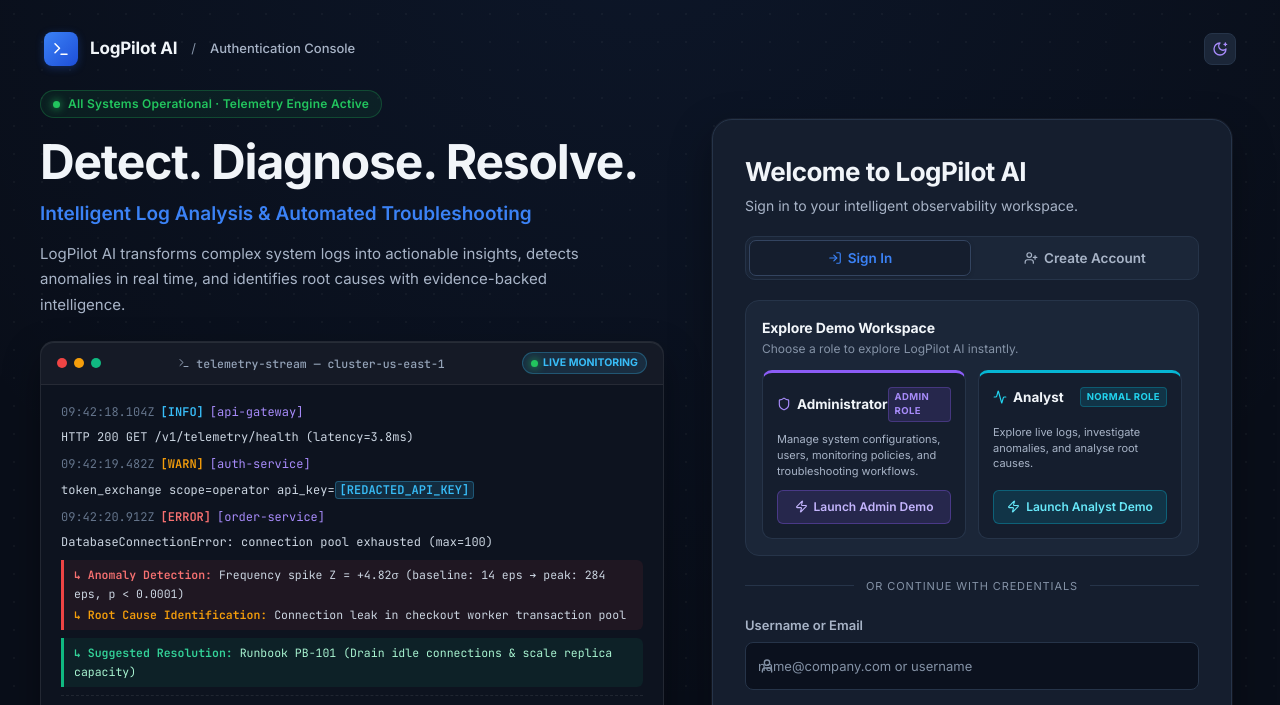
Test: JWT Authentication and Multi-Role Login › switches to Create Account tab and submits registration with selected role
Later steps or results of the test are not shown.
Click the button "Create Account" at point(1085, 258), box x1=975 y1=240 x2=1195 y2=276
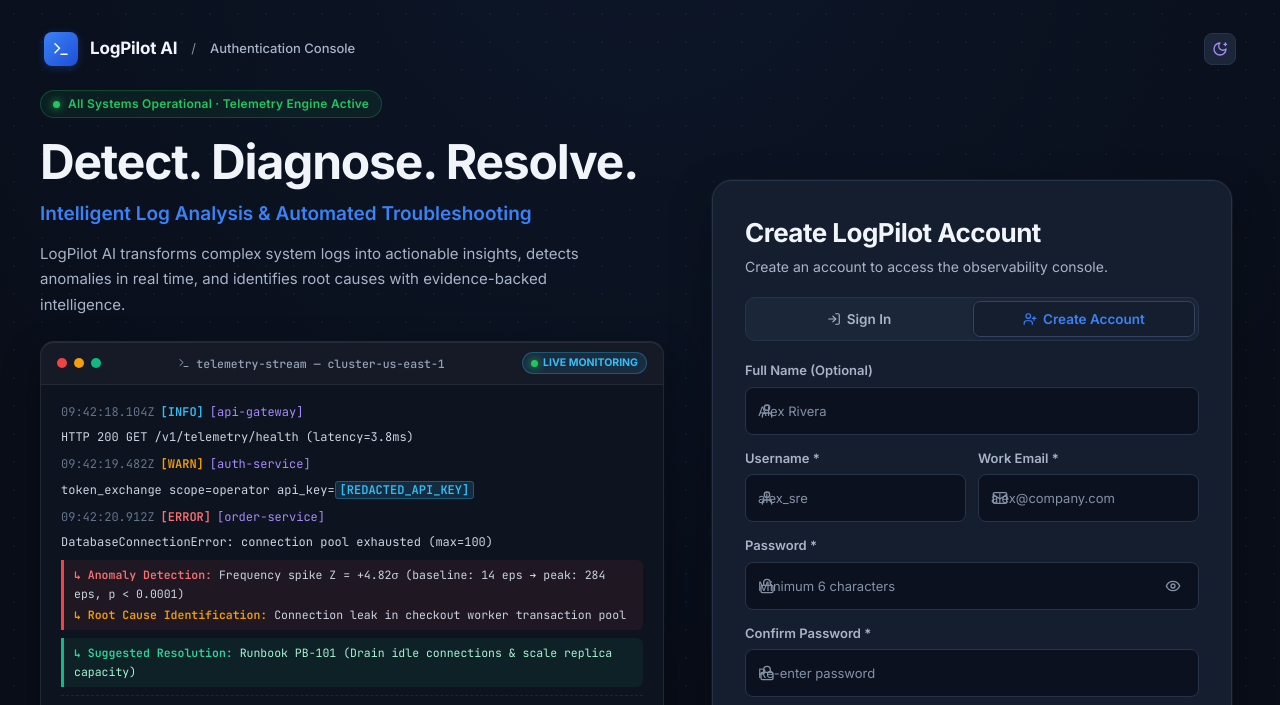
Expected: the heading "Create LogPilot Account" is shown, x1=745 y1=218 x2=1041 y2=248
Expected: the field labelled "Username *" is shown, x1=745 y1=474 x2=966 y2=522
Expected: the field labelled "Work Email *" is shown, x1=978 y1=474 x2=1199 y2=522
